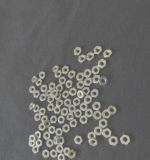nut: (120, 135, 132, 146), (109, 137, 120, 147), (99, 119, 110, 129), (103, 129, 113, 139), (67, 150, 77, 160), (74, 136, 84, 145), (93, 102, 103, 111), (102, 110, 112, 119), (103, 49, 113, 58), (99, 77, 109, 86), (92, 66, 101, 76), (91, 89, 100, 99), (76, 72, 85, 82), (50, 149, 59, 159), (56, 144, 65, 154), (60, 108, 70, 117), (69, 87, 78, 97), (41, 115, 50, 125), (65, 80, 75, 89), (80, 116, 89, 125), (95, 127, 104, 136), (99, 60, 108, 69), (94, 46, 103, 55), (93, 75, 102, 84), (85, 77, 94, 86), (77, 81, 86, 90), (66, 112, 75, 121), (56, 145, 65, 154), (35, 78, 44, 87), (55, 99, 64, 108), (68, 70, 77, 79), (89, 138, 99, 146), (42, 149, 50, 159), (108, 107, 118, 115), (86, 109, 94, 119), (70, 119, 78, 129), (84, 96, 94, 104), (73, 97, 81, 107), (50, 115, 58, 125), (94, 111, 102, 120), (88, 132, 97, 140), (74, 47, 83, 55), (79, 54, 87, 63), (87, 53, 95, 62), (62, 66, 70, 75), (84, 69, 92, 78), (74, 109, 82, 118), (80, 103, 89, 111), (83, 87, 91, 96), (77, 90, 85, 99), (68, 105, 77, 113), (64, 147, 72, 156), (57, 137, 66, 145), (46, 139, 54, 148), (28, 139, 36, 148), (43, 132, 51, 141), (58, 116, 66, 125), (64, 99, 72, 108), (62, 90, 70, 99), (50, 115, 58, 124), (34, 113, 42, 122), (38, 71, 46, 80), (39, 93, 47, 102), (47, 103, 55, 112), (51, 89, 59, 98), (59, 76, 67, 85), (54, 70, 62, 79), (33, 104, 40, 114), (54, 106, 61, 116), (54, 135, 60, 146), (32, 146, 40, 154), (38, 124, 46, 132), (44, 120, 52, 128), (30, 75, 38, 83), (56, 128, 63, 137), (35, 131, 42, 140), (49, 126, 56, 135), (39, 107, 46, 116), (46, 96, 55, 103), (49, 82, 56, 91), (41, 84, 48, 93), (29, 86, 36, 94), (63, 125, 70, 133), (29, 135, 36, 143), (36, 140, 43, 148), (29, 103, 36, 111), (33, 90, 40, 98), (55, 93, 62, 101), (52, 65, 60, 72), (57, 85, 64, 92), (58, 154, 66, 160), (47, 91, 54, 96)
